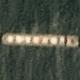ship: (0, 0, 40, 19)
